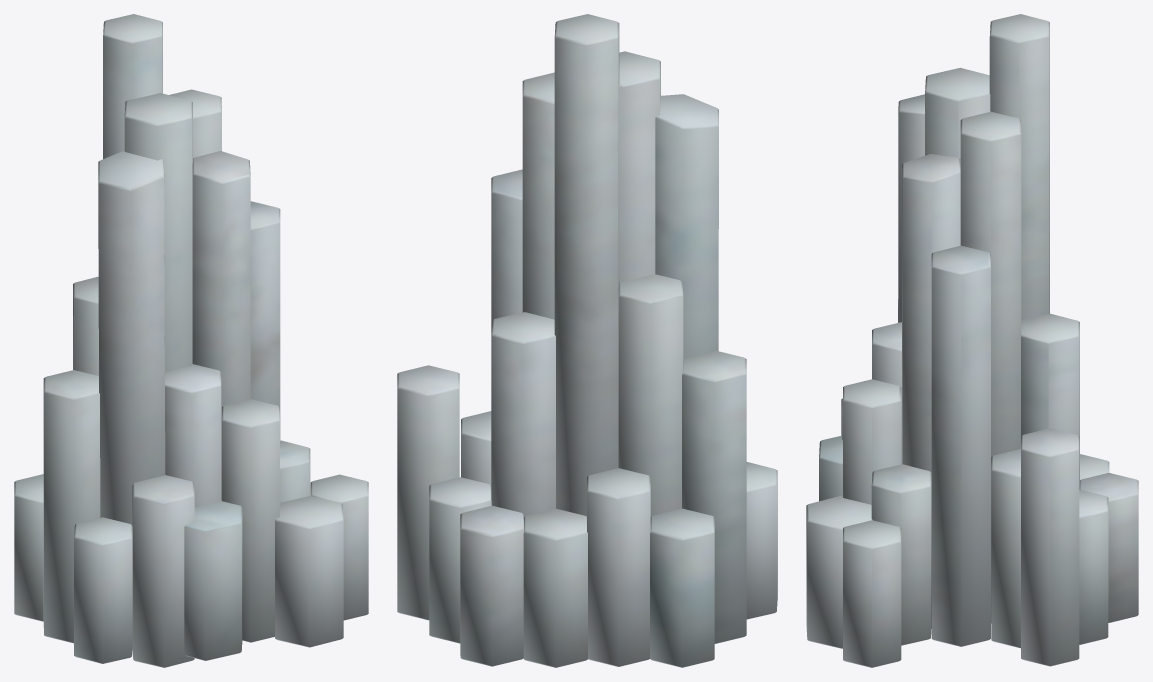
Rendered from P_RockHexic_Spire03.obj.
3 views of the same model, side by side, from view 1: azimuth 30°, elevation 25°; view 2: azimuth 150°, elevation 25°; view 3: azimuth 270°, elevation 25° (orthographic). The views are drawn at different scales.
Size of the model in its own units: 18.45 by 35.47 by 18.82.
